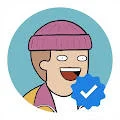fraud: (70, 73, 106, 110)
